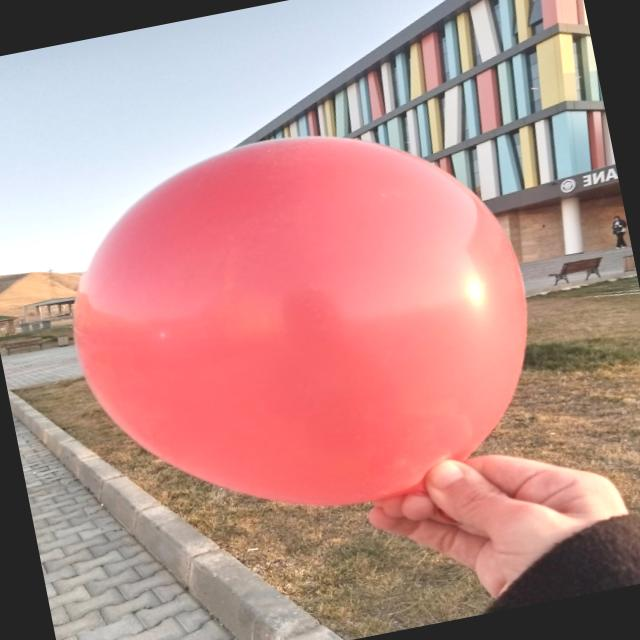balloon: (75, 136, 527, 505)
